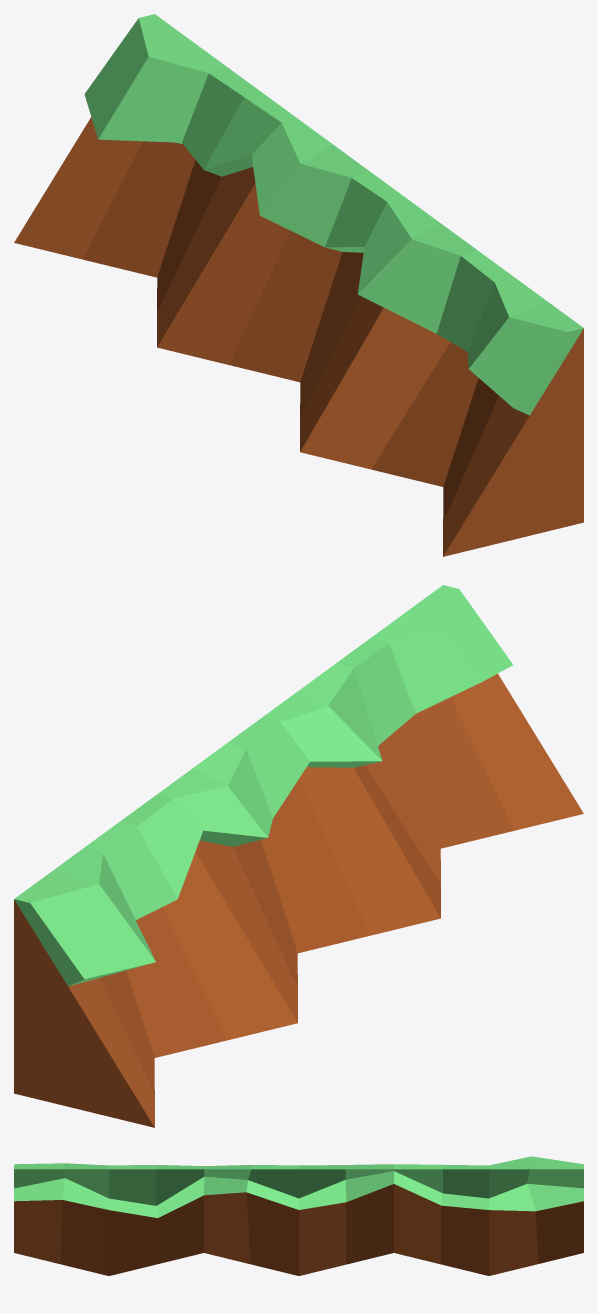
File: borderGrass.fbx
3 renders of one model, top to bottom at view 1: azimuth 30°, elevation 25°; view 2: azimuth 150°, elevation 25°; view 3: azimuth 270°, elevation 25°, orthographic. The views are drawn at different scales.
Parts seen in each view (by area): view 1: borderGrass; view 2: borderGrass; view 3: borderGrass.
Boxes of the visible parts, <box> form: borderGrass: <box>14,14,583,556</box>; borderGrass: <box>14,585,583,1127</box>; borderGrass: <box>14,1156,583,1275</box>.
Bounding box in the file's own units: 37.92 × 50.01 × 200.
